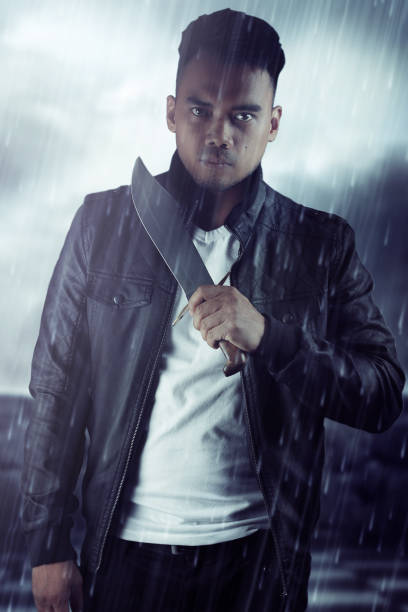knife: (129, 154, 244, 377)
